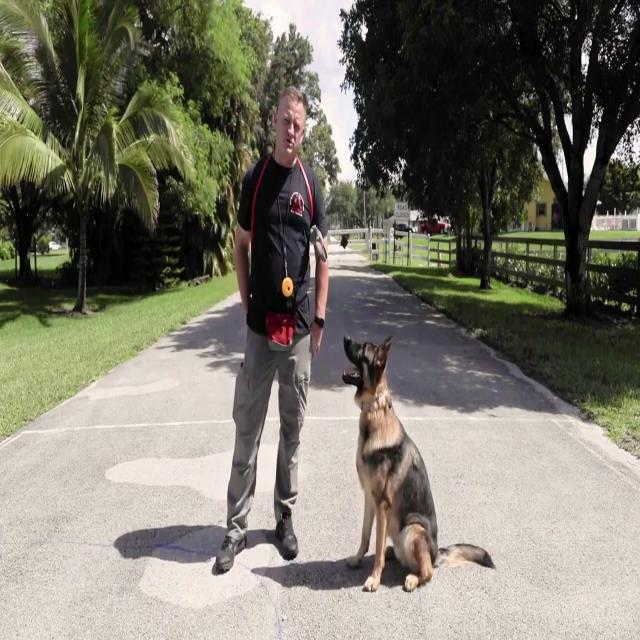Unleashed_Dog: (279, 332, 496, 592)
